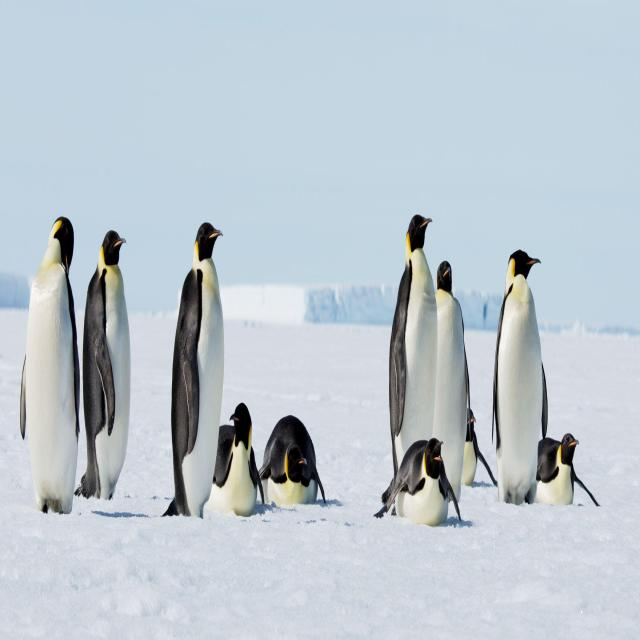penguin: (164, 223, 224, 517), (20, 216, 79, 513), (75, 230, 130, 499), (492, 250, 547, 504), (389, 215, 437, 481), (432, 261, 467, 501), (376, 438, 458, 525), (207, 403, 262, 516), (259, 416, 325, 506), (534, 434, 583, 504)
